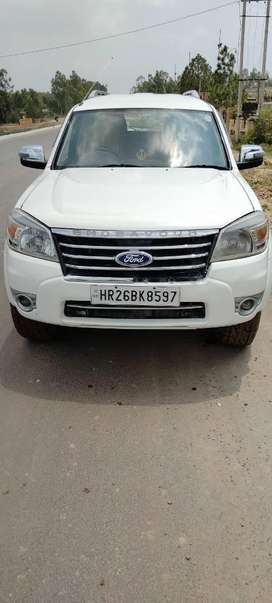HR26BK8597: (91, 282, 180, 306)
